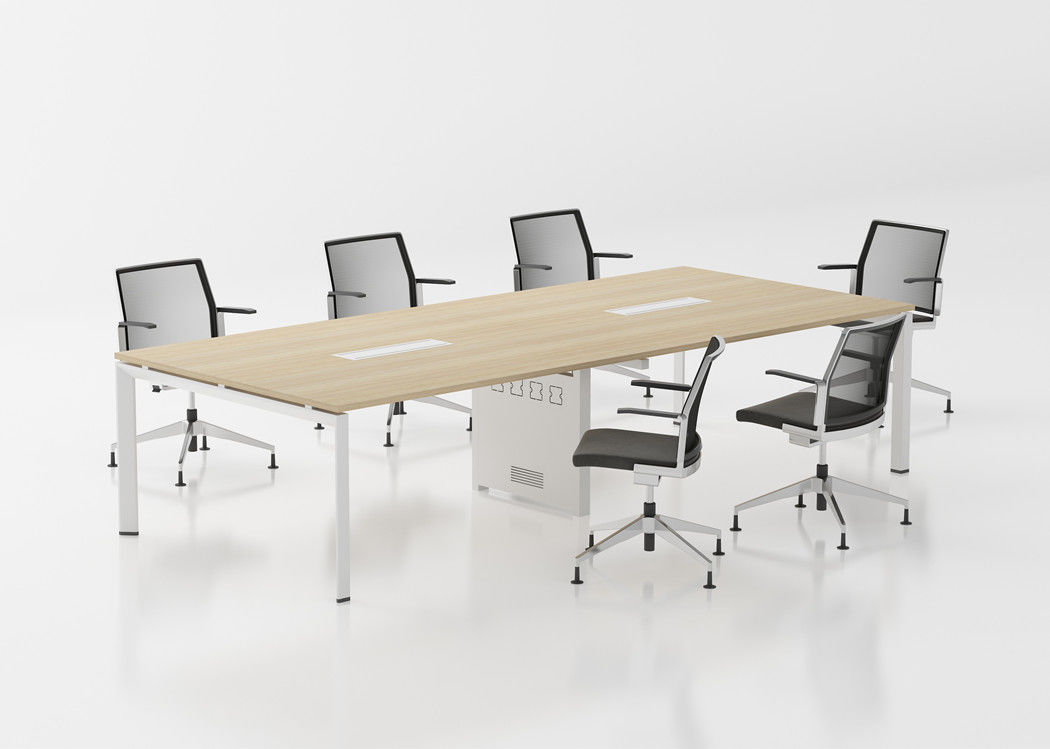conference_table: (115, 269, 913, 603)
